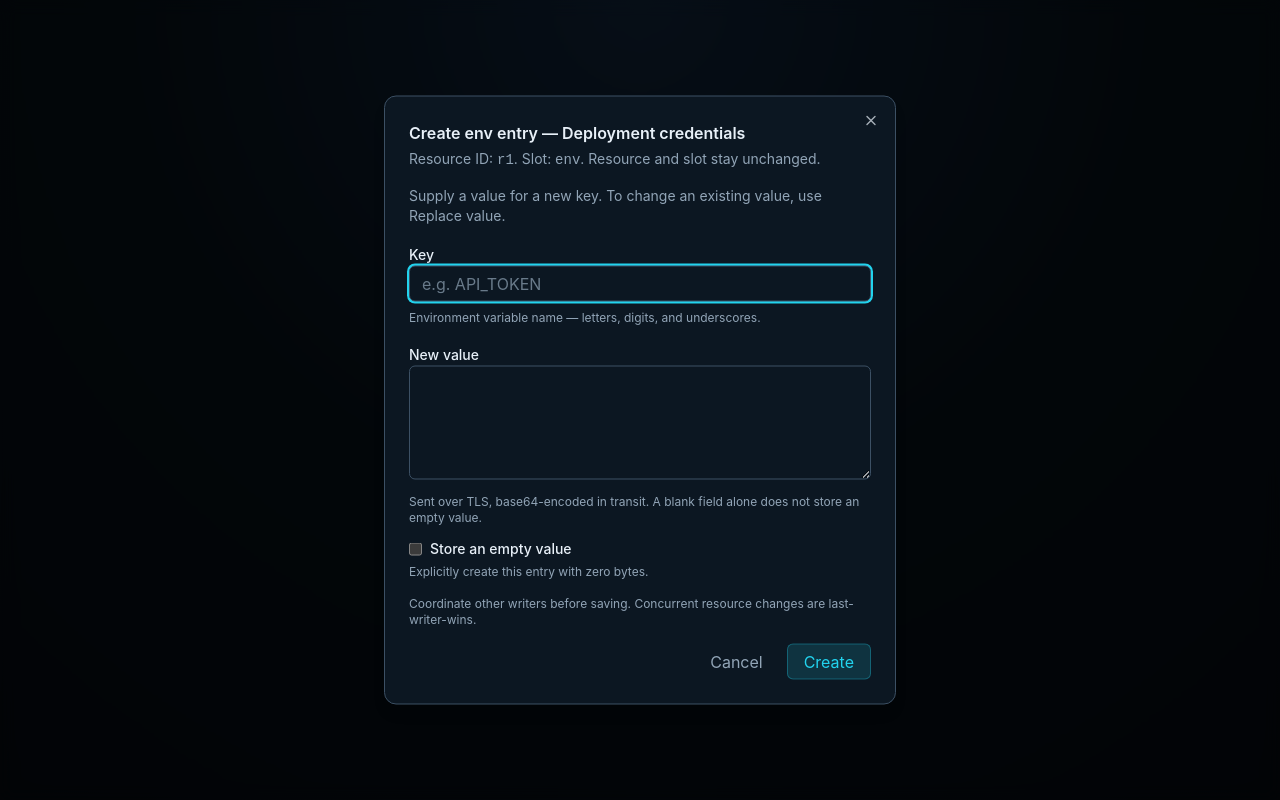
Test: WriteSecretDialog › rejects untouched blank create material
In the field labelled "Key": (640, 284) [409,266,871,302], type "NEW"
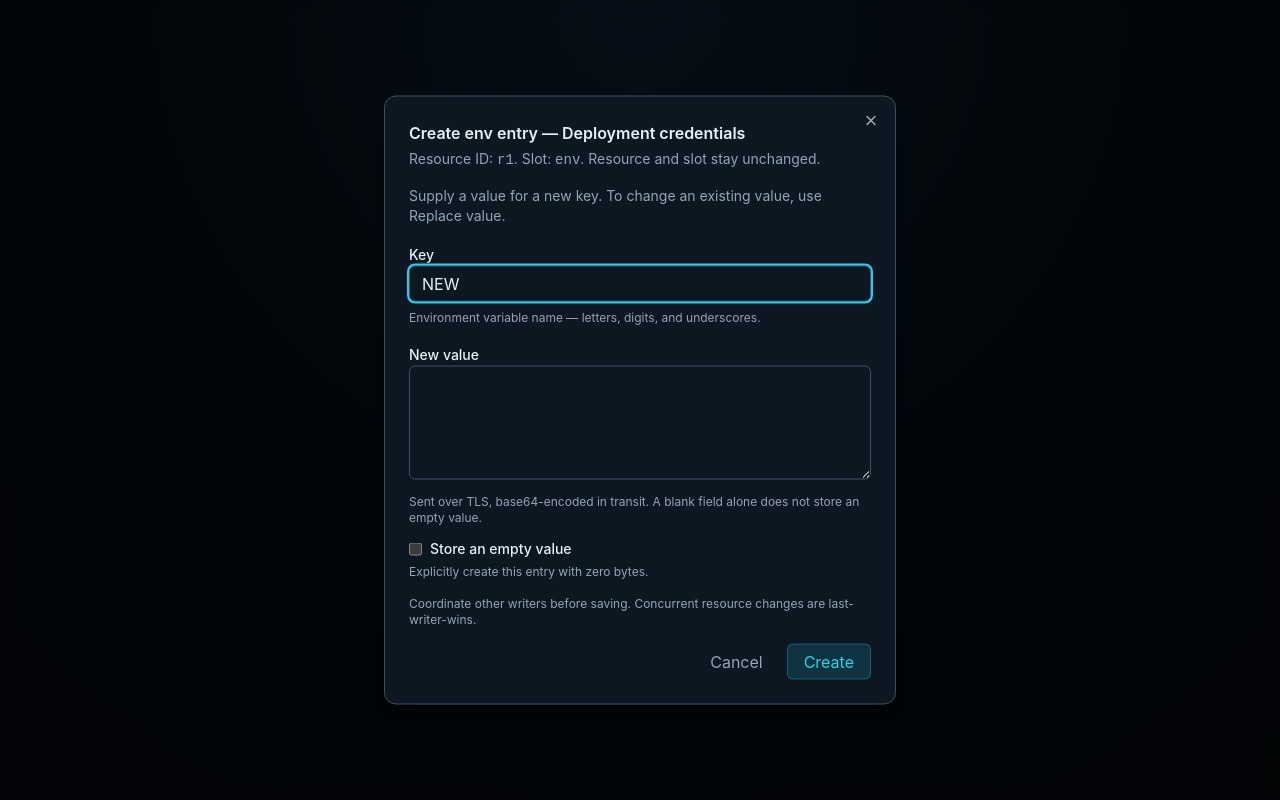
Expected: the checkbox labelled "Store an empty value" is not checked, [409,542,422,555]
Click the button "Create": (829, 662) [787,644,871,680]
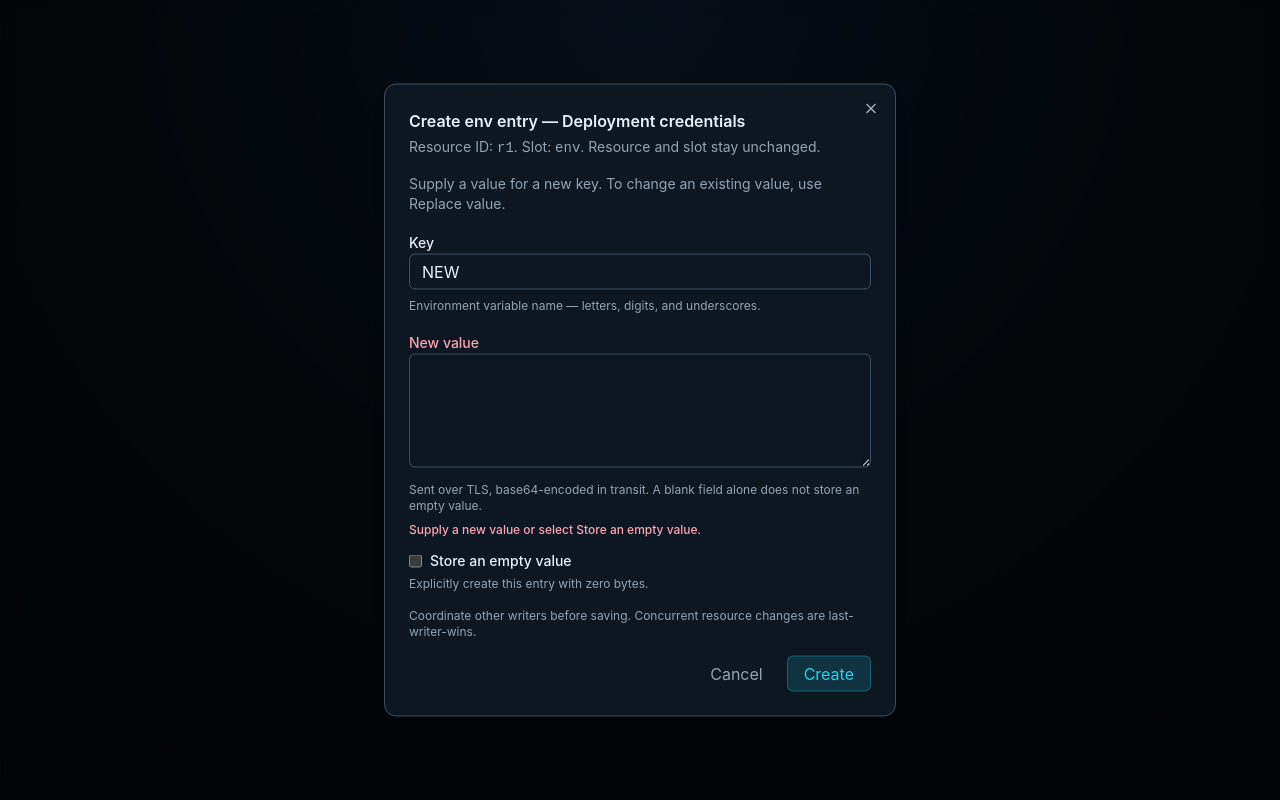
Result: the text "Supply a new value or select Store an empty value." is shown at [409,522,701,536]
